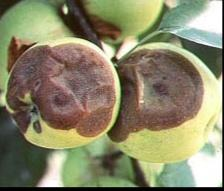rotten apple: (113, 40, 221, 169), (7, 36, 121, 154)
